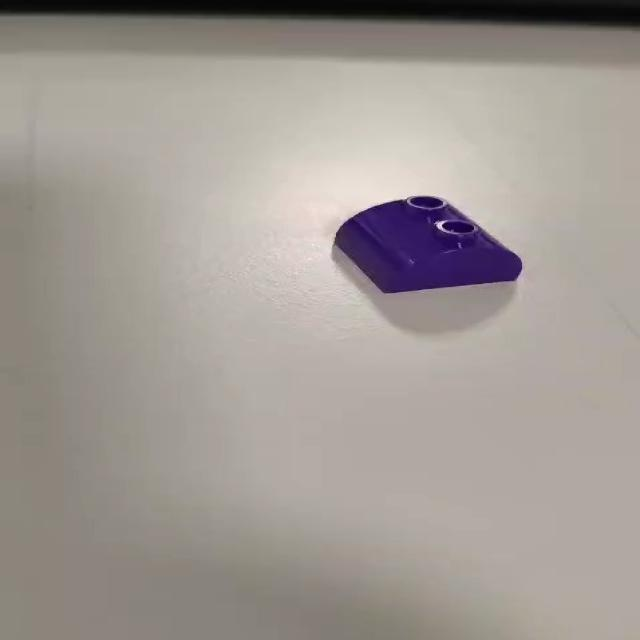H2x2x1: (328, 192, 528, 296)
